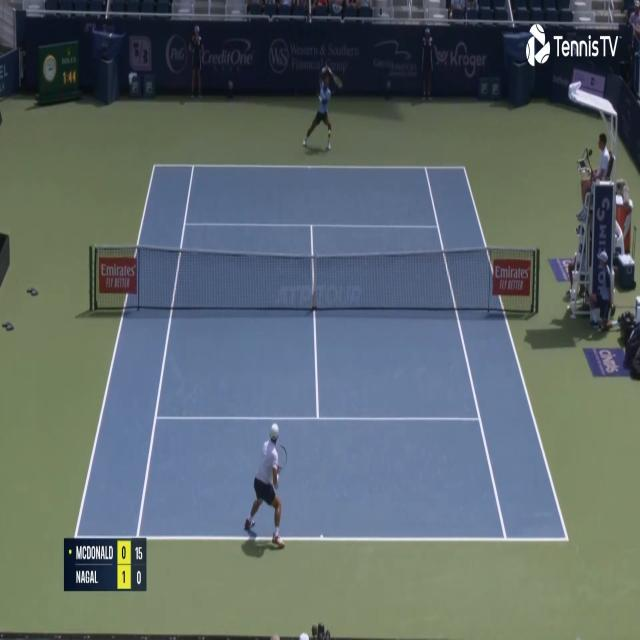tennis-player: (241, 418, 289, 554), (300, 59, 344, 157)
